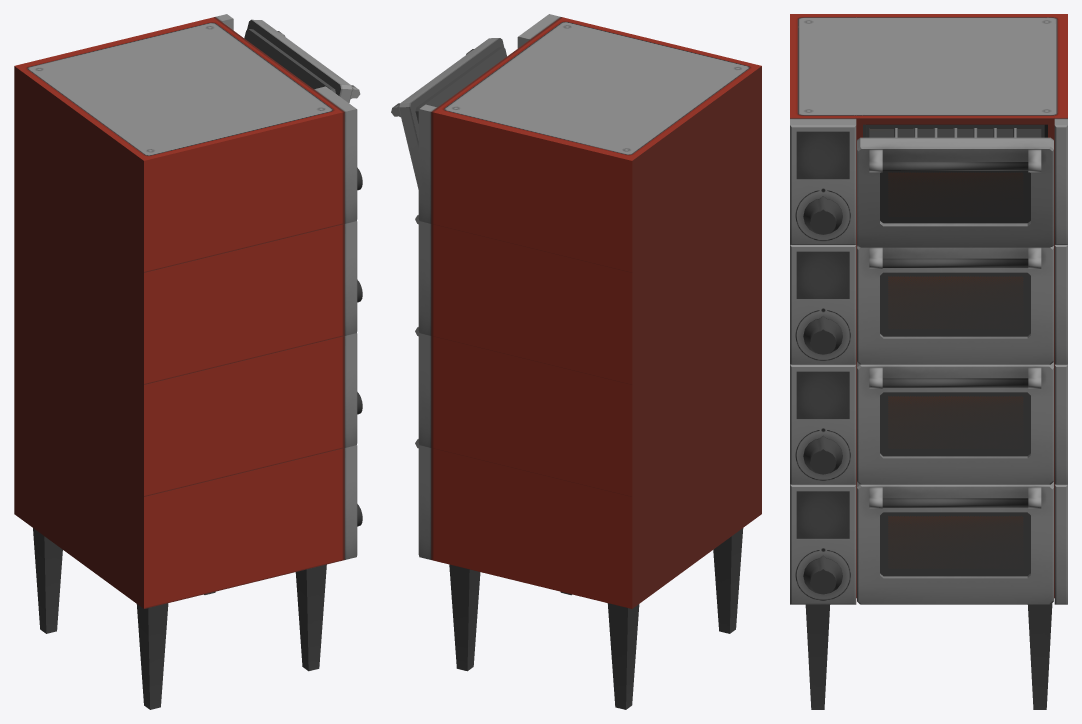
The model's file is ovenopen4.gltf.
3 renders of one model, left to right at view 1: azimuth 30°, elevation 25°; view 2: azimuth 150°, elevation 25°; view 3: azimuth 270°, elevation 25°, orthographic. The views are drawn at different scales.
Parts seen in each view (by area): view 1: Cube; view 2: Cube; view 3: Cube, Cube.003, Cube.006, Cube.012, Cube.009.
Boxes of the visible parts, x1=… form: Cube: x1=14, y1=14, x2=360, y2=709; Cube: x1=391, y1=14, x2=761, y2=709; Cube: x1=790, y1=14, x2=1067, y2=709; Cube.003: x1=803, y1=435, x2=842, y2=474; Cube.006: x1=803, y1=316, x2=842, y2=354; Cube.012: x1=803, y1=555, x2=842, y2=594; Cube.009: x1=803, y1=196, x2=842, y2=234.
Bounding box in the file's own units: 2.37 × 5 × 2.1.
